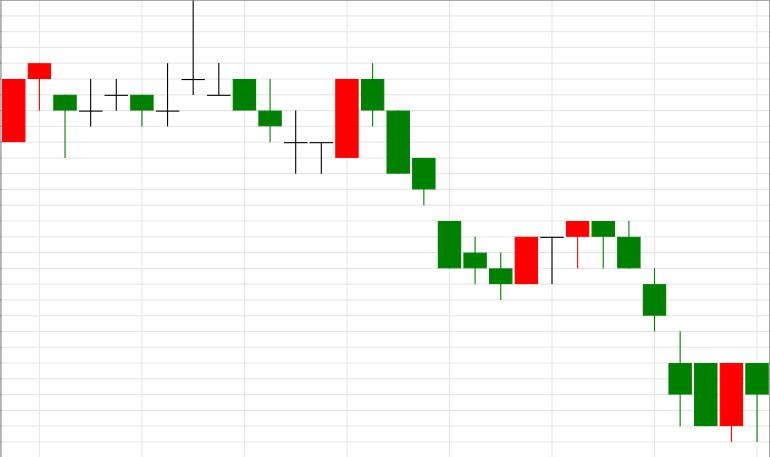bullish_engulfing_rise: (592, 221, 743, 442)
